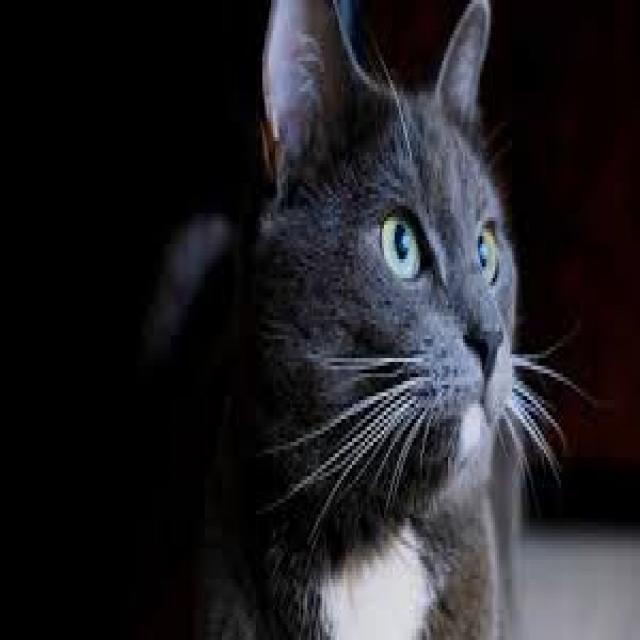Cat: (130, 1, 600, 636)
